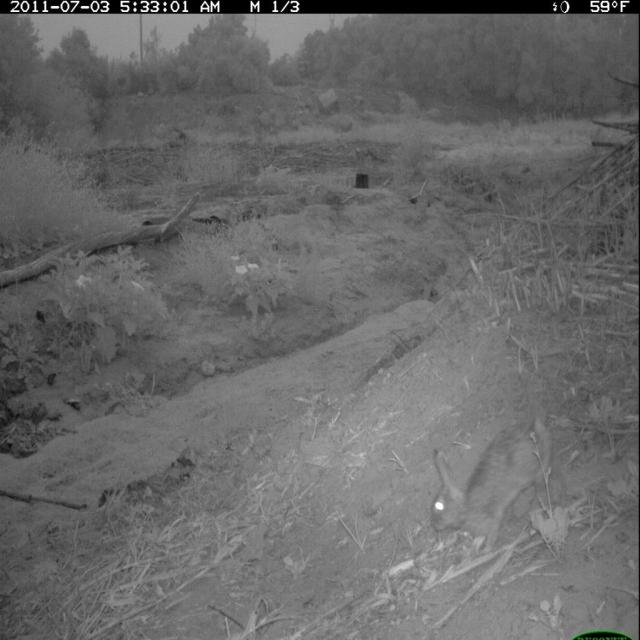rabbit: (426, 408, 563, 562)
